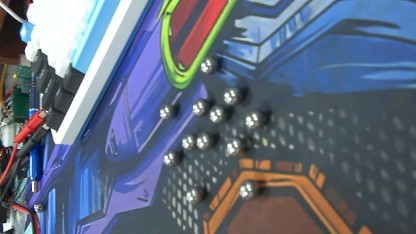ironball: (192, 127, 214, 150), (239, 111, 265, 129), (237, 179, 261, 198), (221, 86, 242, 105), (197, 56, 217, 75), (156, 101, 176, 120), (223, 137, 243, 156), (178, 133, 198, 152), (157, 150, 179, 167), (190, 98, 207, 116), (184, 186, 204, 201), (209, 104, 225, 122)
